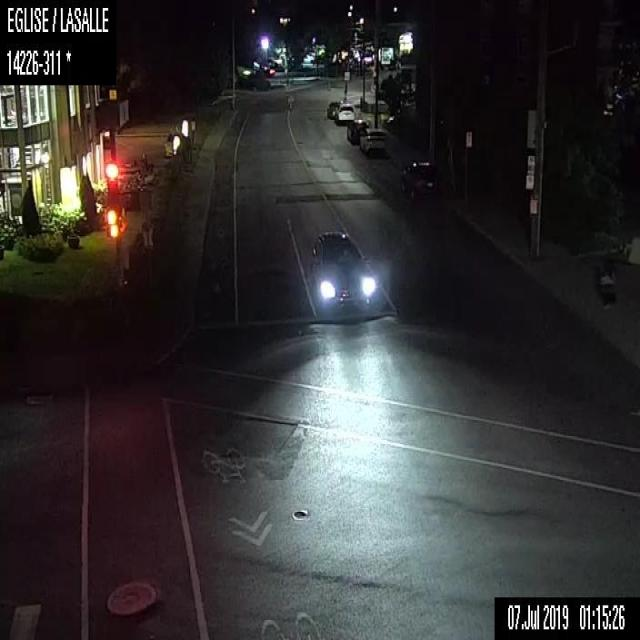pedestrian: (596, 250, 616, 312), (139, 199, 152, 252)
vehicle: (308, 230, 377, 314), (398, 158, 448, 202), (359, 127, 390, 157), (164, 125, 186, 156), (346, 117, 369, 144), (335, 102, 356, 123), (325, 99, 341, 118)
